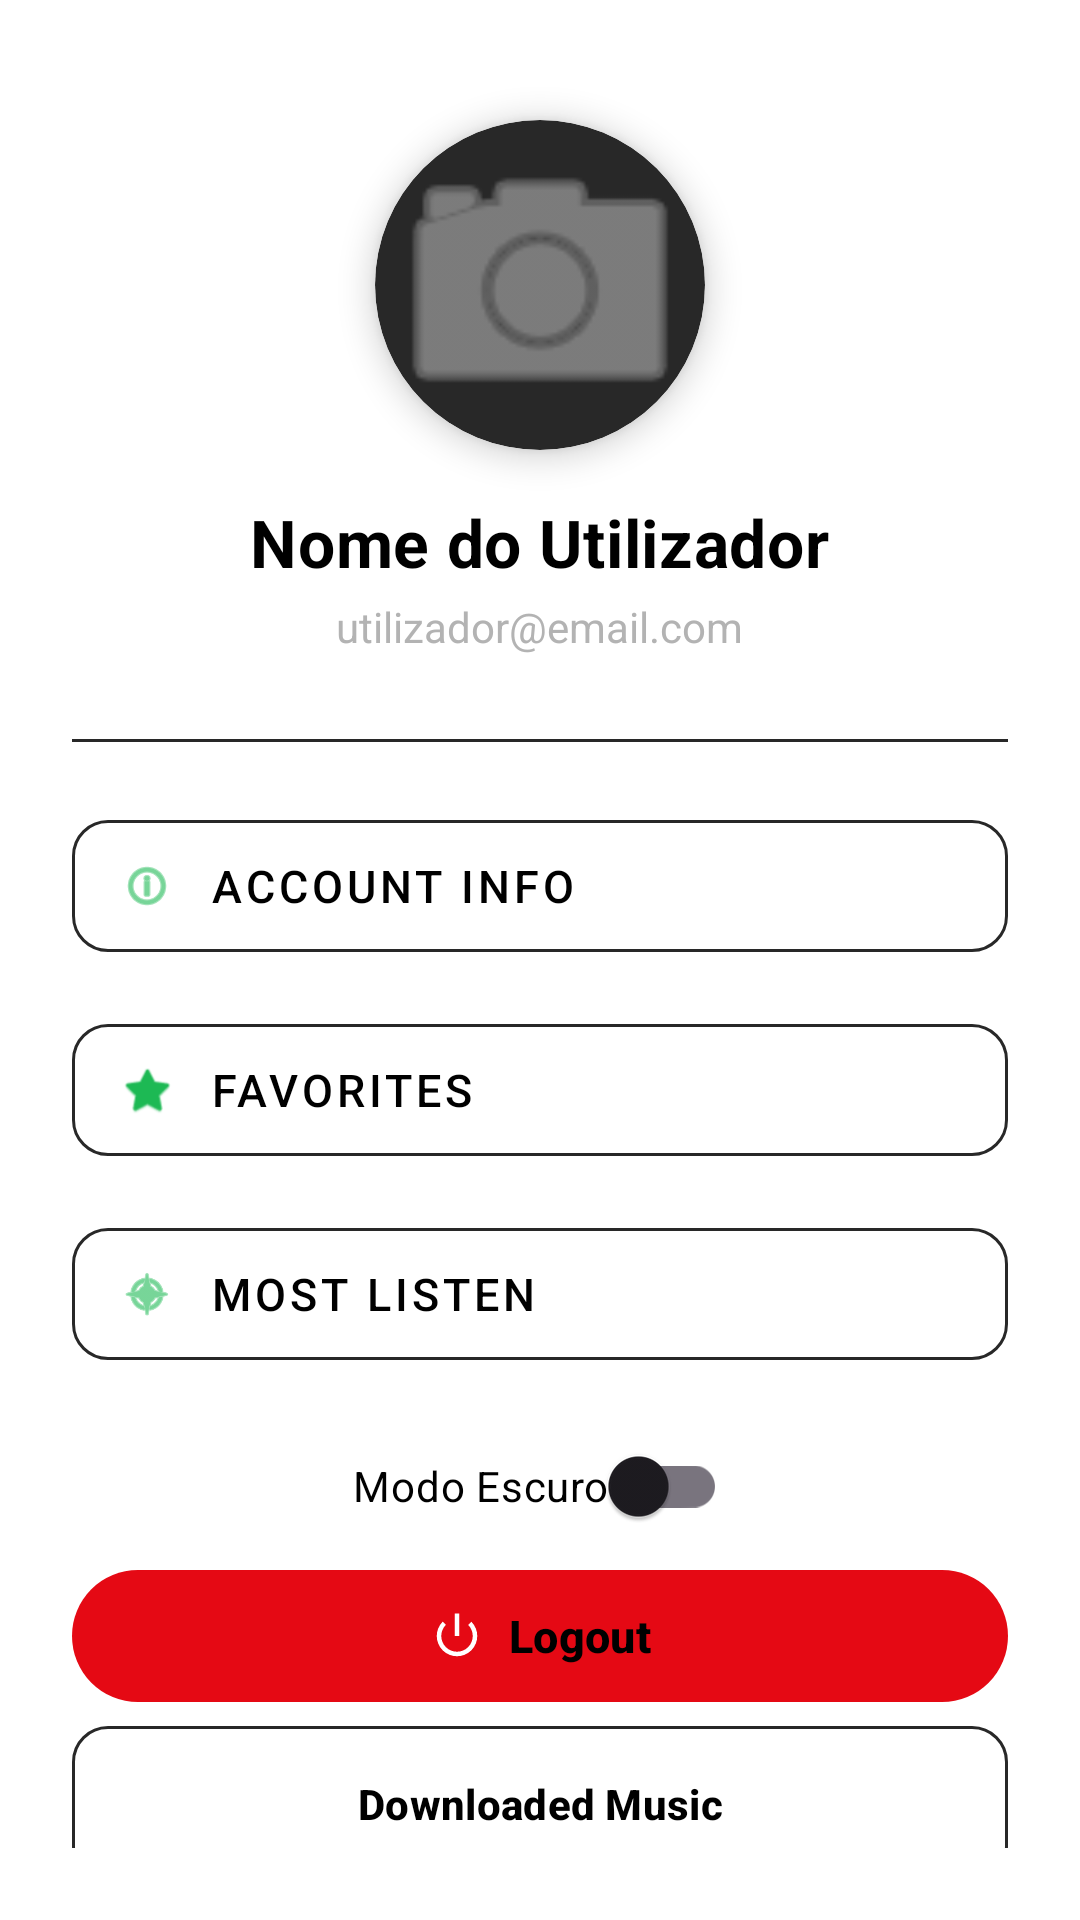

Screen size 1080*1920. Icon name, then its center in pixels as point (x, y):
Foto de Perfil: point (540, 285)
